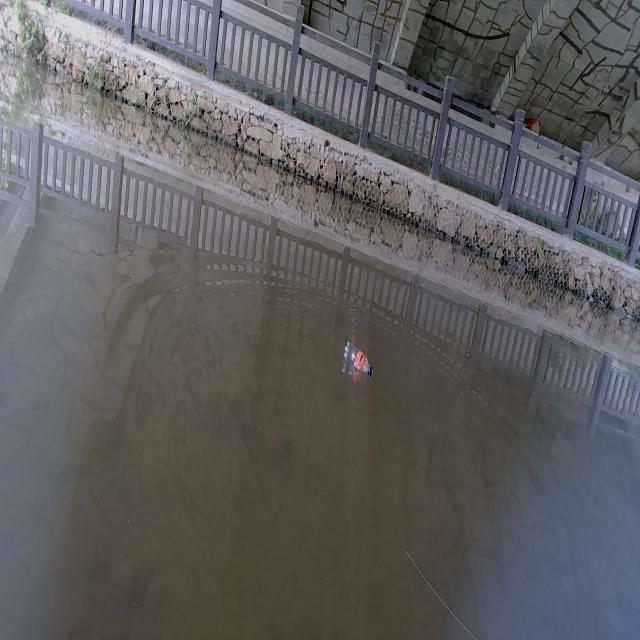bottle: (331, 338, 382, 383)
